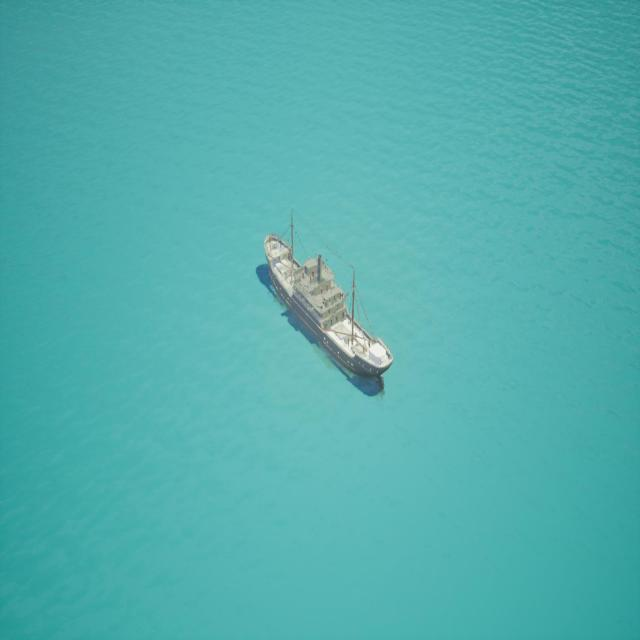fishing ship: (255, 214, 394, 396)
